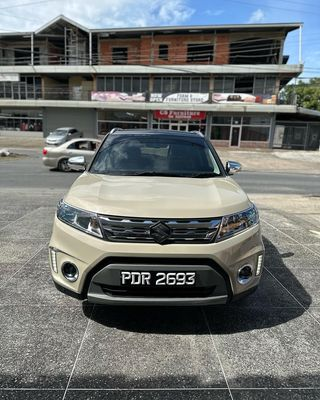License-Plate: (120, 270, 196, 286)
